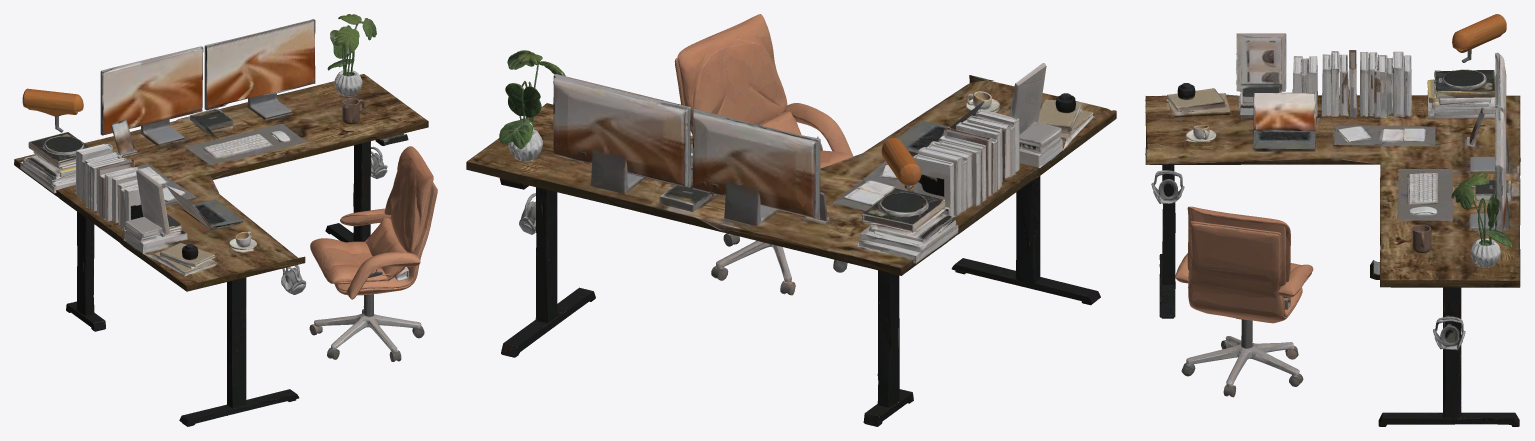
Rendered from wayfair-com-furniture-pdp-inbox-zero-l-shape-electric-height-072346.glb.
3 views of the same model, side by side, from view 1: azimuth 30°, elevation 25°; view 2: azimuth 150°, elevation 25°; view 3: azimuth 270°, elevation 25° (orthographic). The views are drawn at different scales.
Visible parts, largest first — view 1: Mesh_0; view 2: Mesh_0; view 3: Mesh_0.
Part boxes in pixels (x1,y1,x2,y2): Mesh_0: (14, 14, 437, 426); Mesh_0: (466, 14, 1116, 426); Mesh_0: (1145, 14, 1520, 426).
Size of the model in its own units: 1.87 by 1.16 by 1.58.
1 material, 1 textured.
